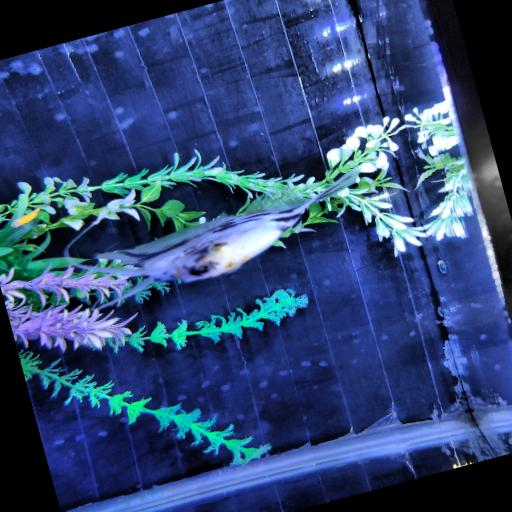Fish: (74, 167, 359, 308), (11, 206, 40, 227)
